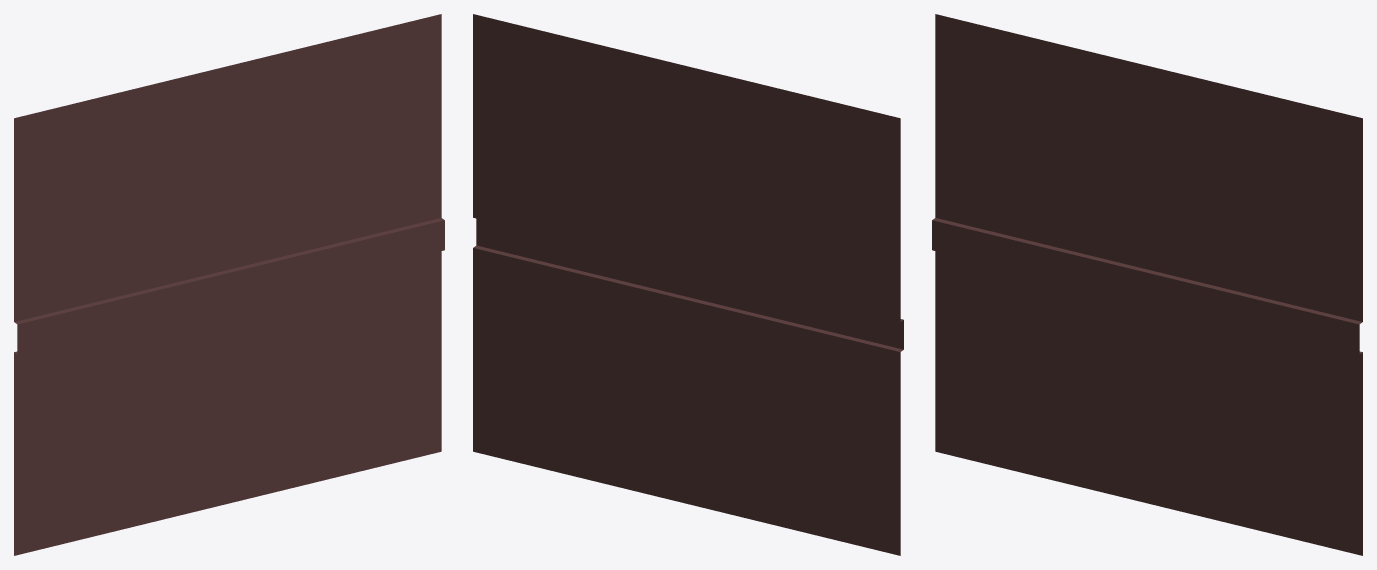
The model's file is AlleyWallG_1.fbx.
3 renders of one model, left to right at view 1: azimuth 30°, elevation 25°; view 2: azimuth 150°, elevation 25°; view 3: azimuth 330°, elevation 25°, orthographic.
Parts seen in each view (by area): view 1: AlleyWallG_1; view 2: AlleyWallG_1; view 3: AlleyWallG_1.
Part boxes in pixels (<box>): AlleyWallG_1: <box>14,14,444,555</box>; AlleyWallG_1: <box>473,14,903,555</box>; AlleyWallG_1: <box>932,14,1362,555</box>.
Bounding box in the file's own units: 440 × 431 × 5.91.
